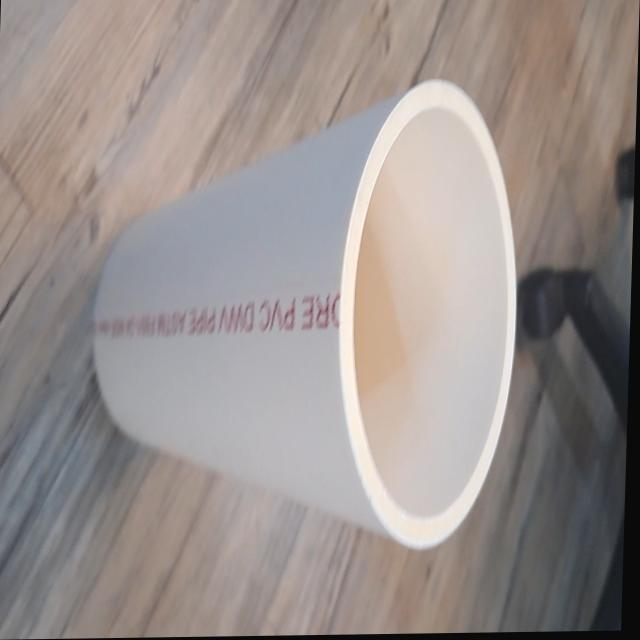CORAL: (78, 67, 536, 569)
